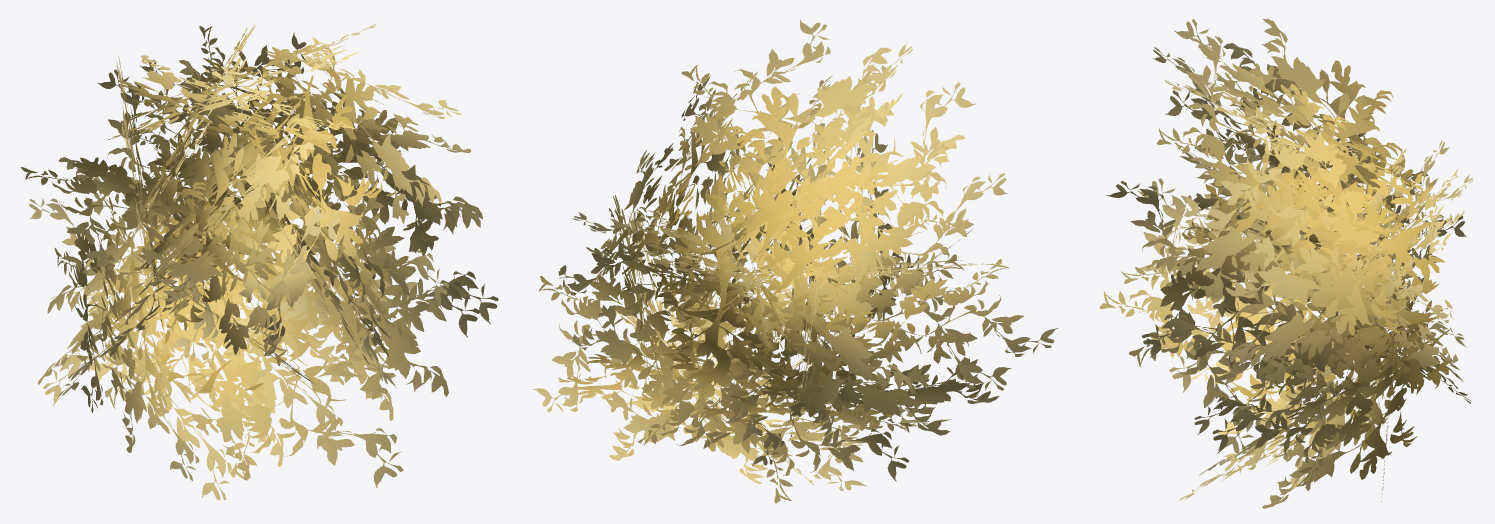
Rendered from Bush.dae.
The picture shows the model from 3 angles, left to right: view 1: azimuth 30°, elevation 25°; view 2: azimuth 150°, elevation 25°; view 3: azimuth 270°, elevation 25°; orthographic projection. The views are drawn at different scales.
Visible parts, largest first — view 1: Bush_02; view 2: Bush_02; view 3: Bush_02.
Part boxes in pixels (box(x1,y1,x2,y2)): Bush_02: box(21, 24, 498, 500); Bush_02: box(533, 20, 1058, 503); Bush_02: box(1099, 19, 1473, 508).
Size of the model in its own units: 0.6821 by 0.5522 by 0.6777.
